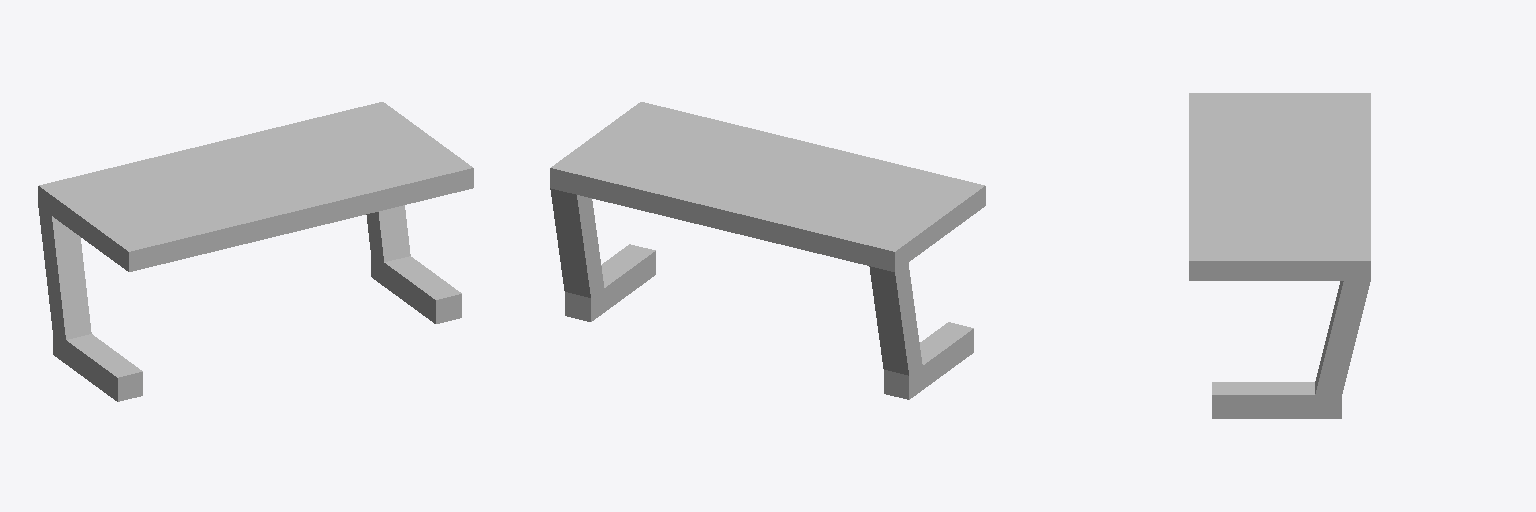
Rendered from table.obj.
3 renders of one model, left to right at view 1: azimuth 30°, elevation 25°; view 2: azimuth 150°, elevation 25°; view 3: azimuth 270°, elevation 25°, orthographic.
Visible parts, largest first — view 1: table; view 2: table; view 3: table.
Part boxes in pixels (x1,y1,x2,y2): table: (38,102,473,401); table: (550,102,985,399); table: (1189,93,1370,418).
Bounding box in the file's own units: 6.15 × 2.7 × 2.8.